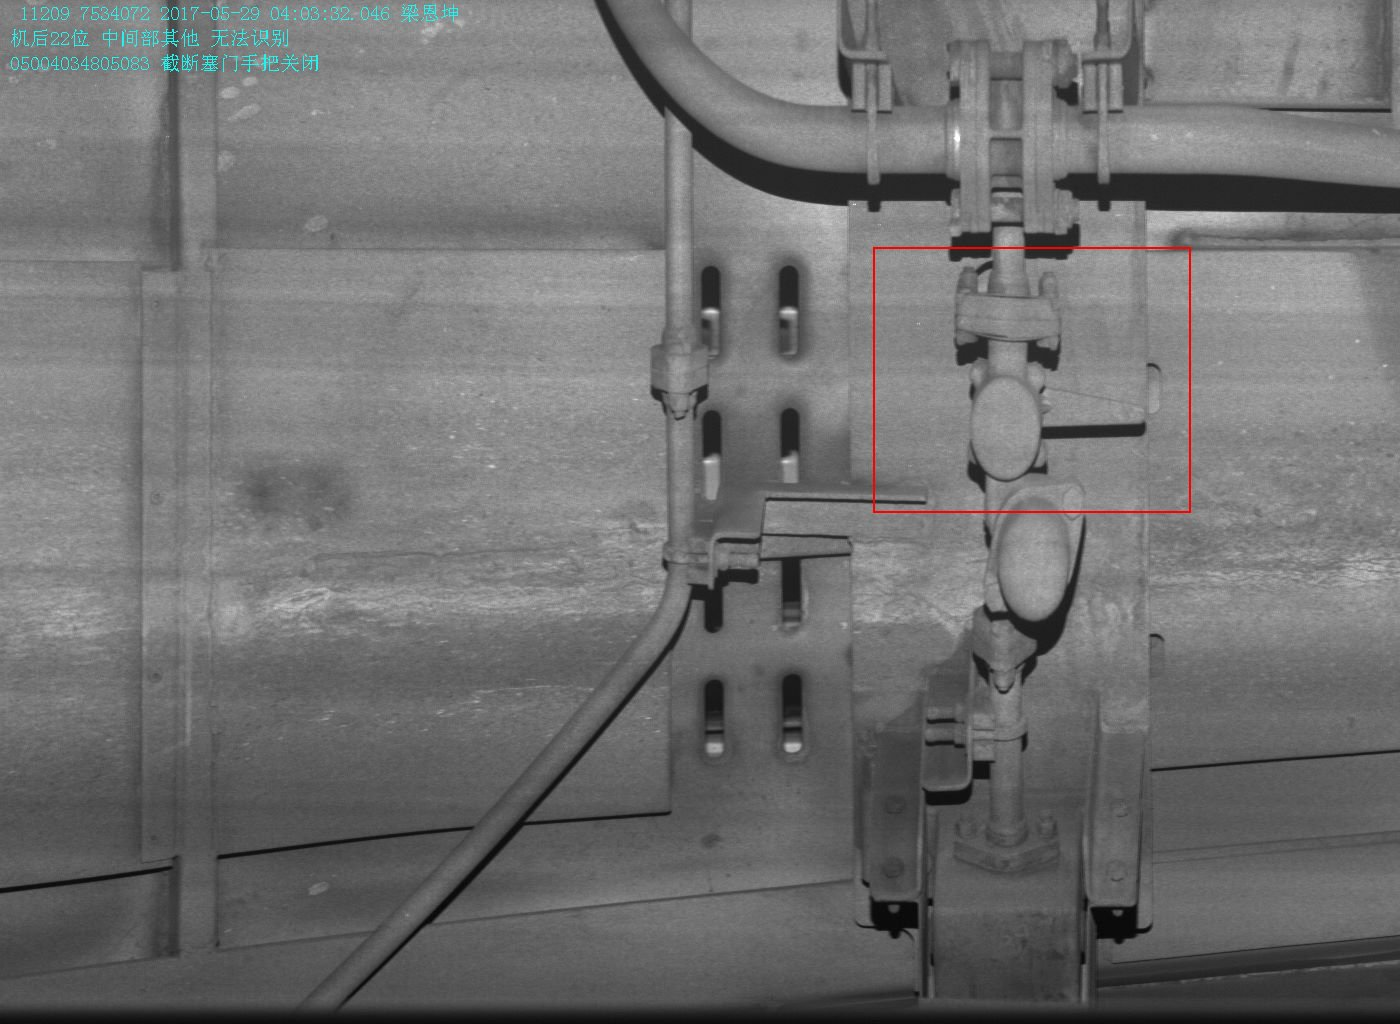truncated plug door handle: (967, 357, 1146, 480)
